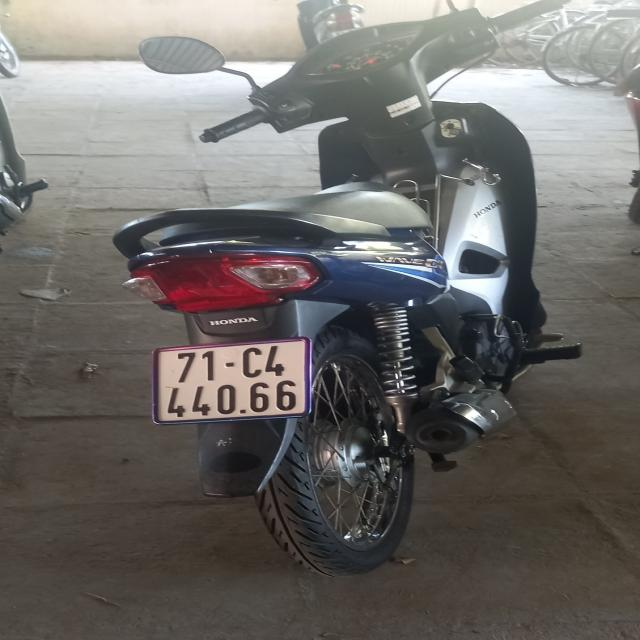0: (217, 384, 236, 414)
1: (202, 351, 214, 381)
4: (266, 345, 284, 377), (193, 385, 211, 416), (168, 388, 185, 420)
6: (276, 380, 296, 412), (249, 383, 270, 412)
7: (177, 352, 194, 383)
C: (243, 347, 263, 377)
